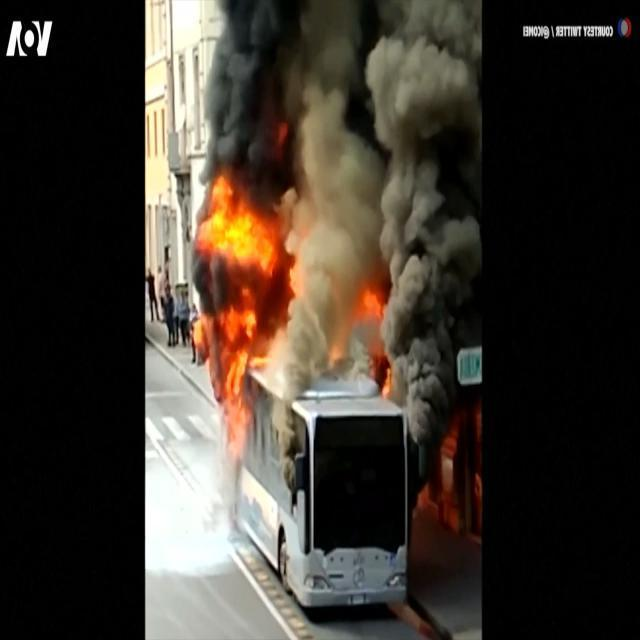fire: (193, 162, 394, 436)
